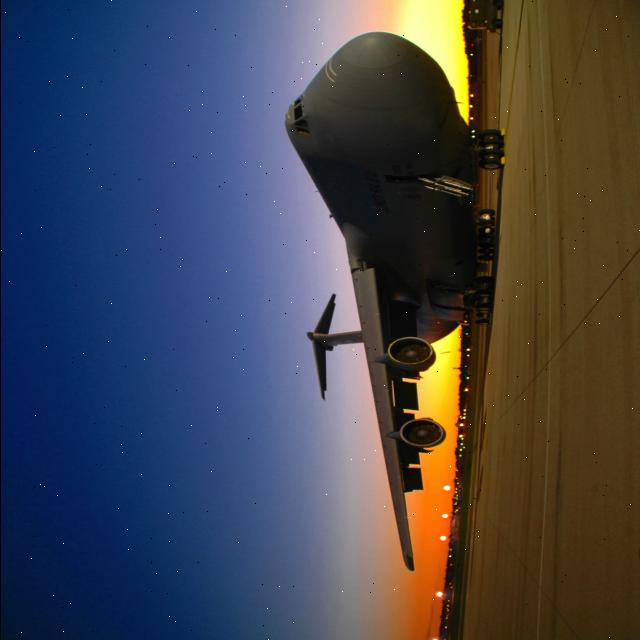C5: (211, 0, 549, 594)
